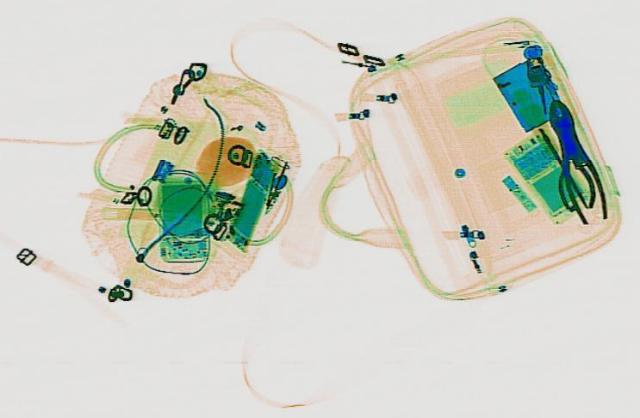Pliers: (536, 95, 614, 223), (540, 127, 600, 207)
